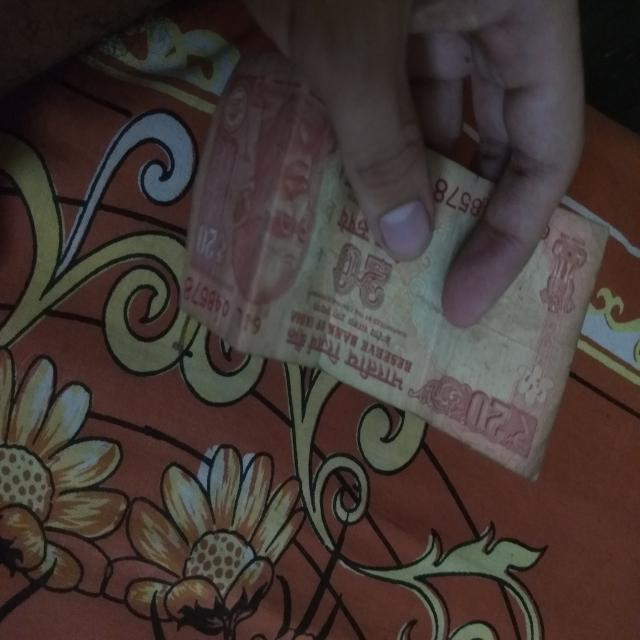20rs: (175, 44, 617, 475)
